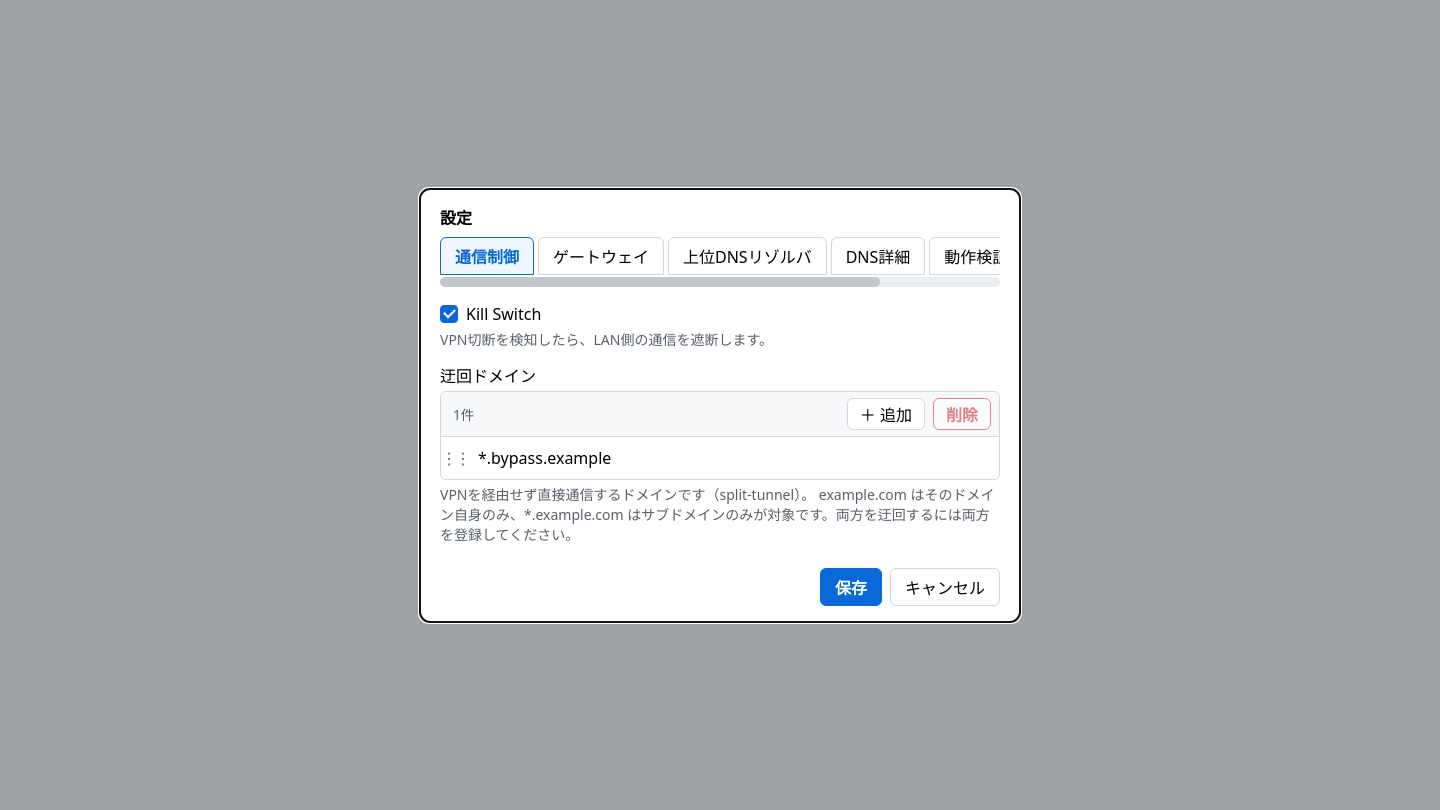
it: SettingsDialog: 動作検証タブ › 完了後は要約を表示し、閉じたグループに最初のNG（期待・観測・対処）を代表として表示する。開くと全項目を表示する
Step 1. Click the tab "動作検証" → (976, 256), box [929,236,1023,274]
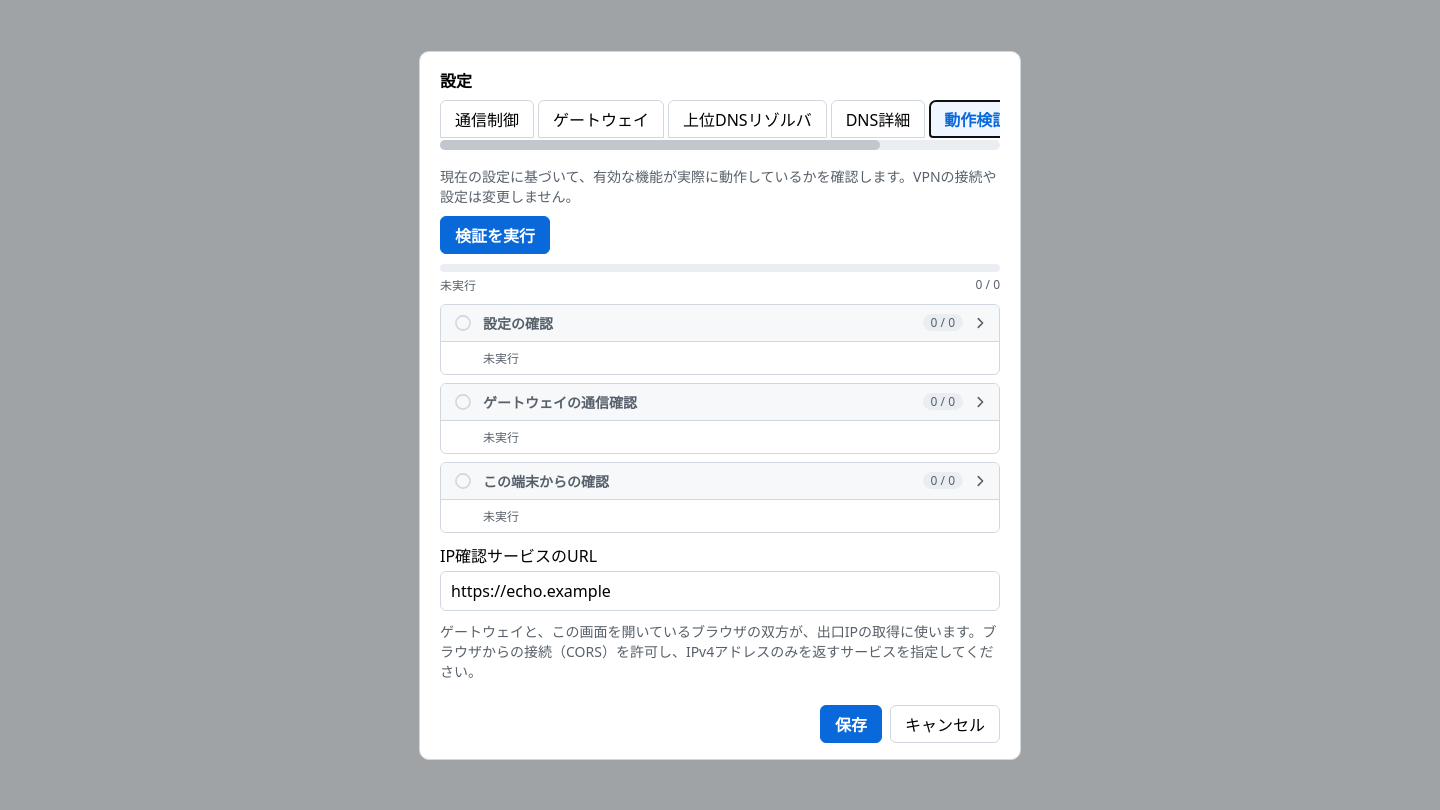
Step 2. Click the button "検証を実行" → (495, 234), box [440,216,550,254]
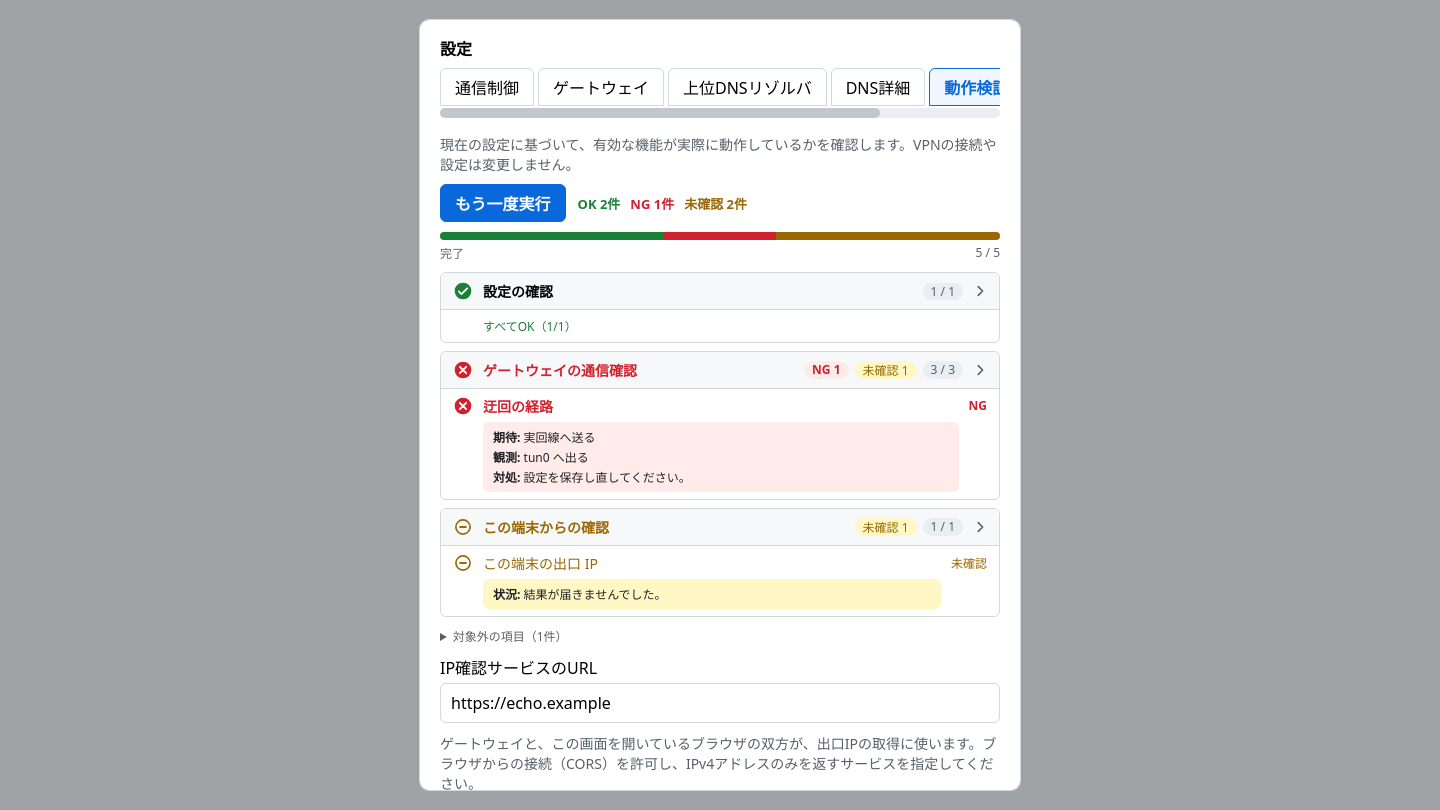
Expected: the button "もう一度実行" is enabled, [440,184,566,222]
Expected: the text "OK 2件" is shown, [578,194,620,212]
Expected: the text "NG 1件" is shown, [630,194,674,212]
Step 3. Click the button "ゲートウェイの通信確認 NG 1 未確認 1 3 / 3" → (560, 370), box [441,352,999,388]
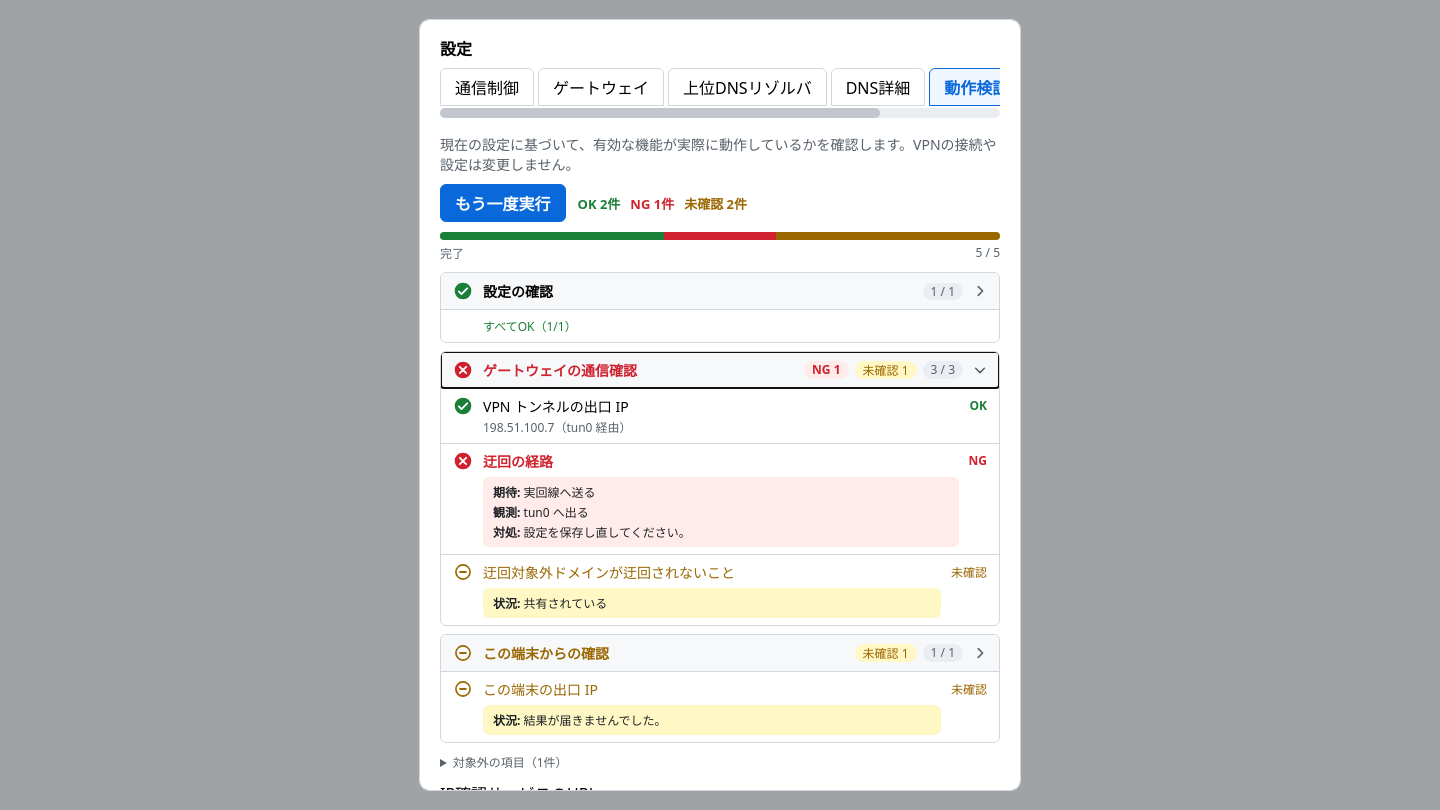
Expected: the button "ゲートウェイの通信確認 NG 1 未確認 1 3 / 3" is shown, [441,352,999,388]
Expected: the text "VPN トンネルの出口 IP" is shown, [483,397,629,416]
Expected: the text "198.51.100.7（tun0 経由）" is shown, [483,419,632,436]
